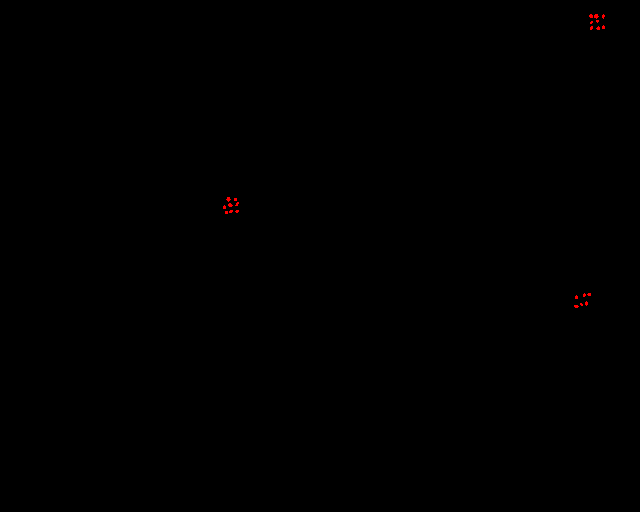Target: (594, 14, 599, 19), (226, 197, 231, 202), (228, 203, 233, 207), (589, 14, 593, 18), (596, 26, 600, 30), (235, 202, 239, 206), (602, 14, 605, 19), (585, 301, 588, 306), (574, 305, 579, 308), (602, 25, 605, 29), (590, 26, 593, 30), (223, 205, 226, 209), (229, 210, 233, 213), (235, 210, 239, 213), (583, 293, 586, 297), (587, 293, 591, 296), (575, 295, 578, 299), (596, 20, 599, 23), (590, 21, 593, 24), (234, 198, 237, 201), (225, 211, 228, 214), (580, 303, 583, 306)
